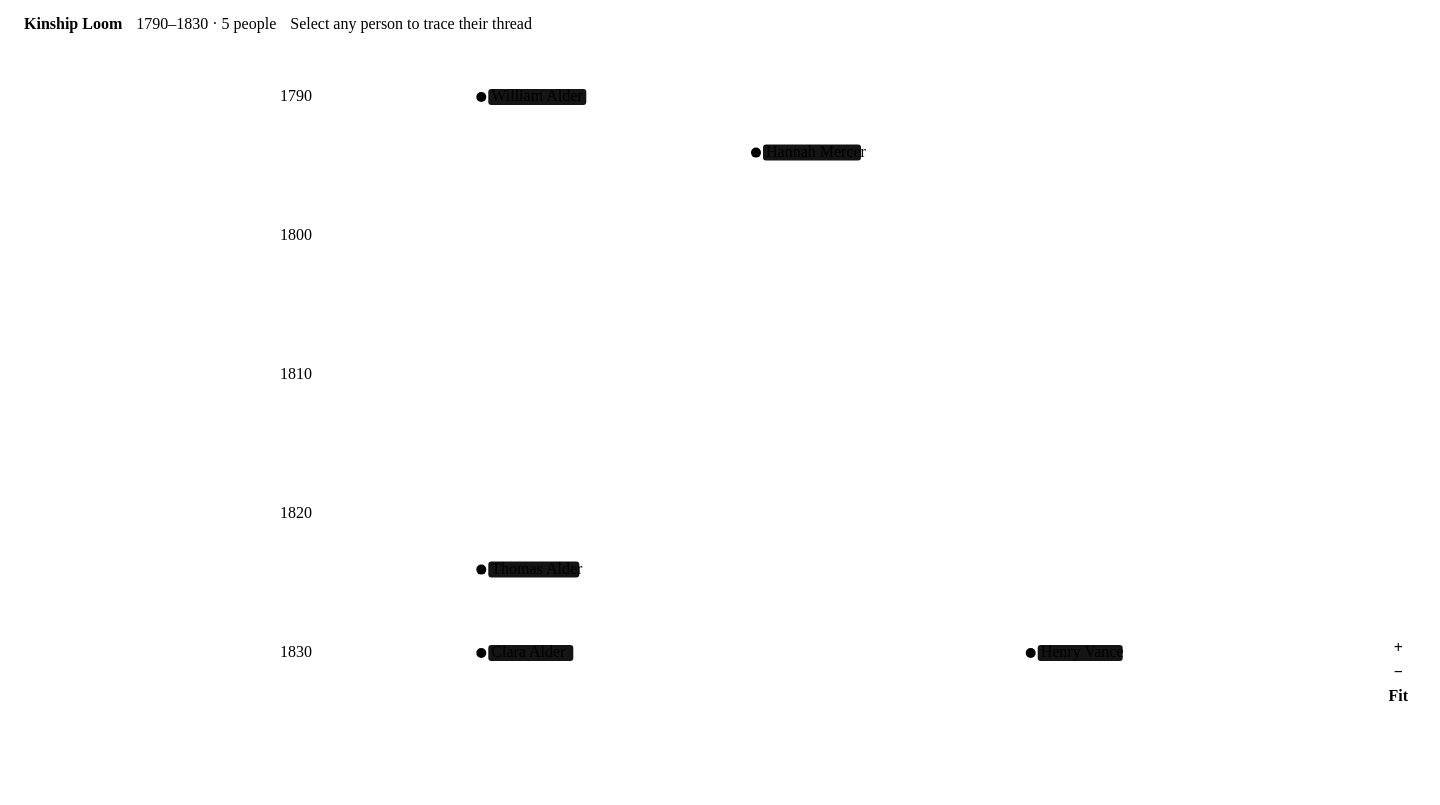
TreeKinshipLoom component & TreePage integration (#72, #123) › supports Trace My Thread spotlight, r=14 touch targets, zoom controls, and touch-friendly hint without redundant bar buttons
The image size is (1440, 805).
Later steps or results of the test are not shown.
Expected: the button "−" is shown, [1380,663,1416,681]
Expected: the button "Fit" is shown, [1380,687,1416,705]
Click the button "+": (1398, 648) [1380,639,1416,657]
(page scrolled)
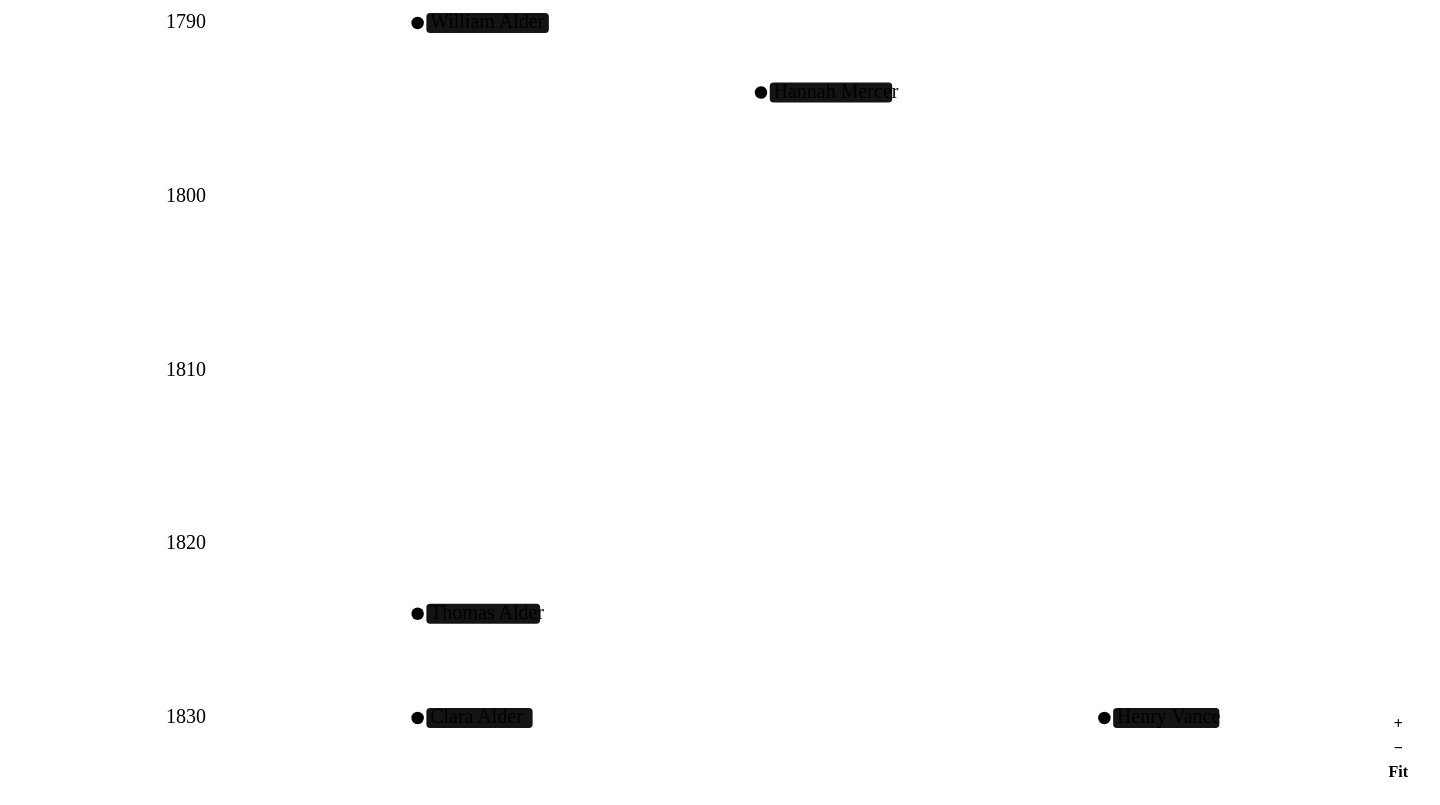
Click the button "−": (1398, 748) [1380,739,1416,757]
(page scrolled)
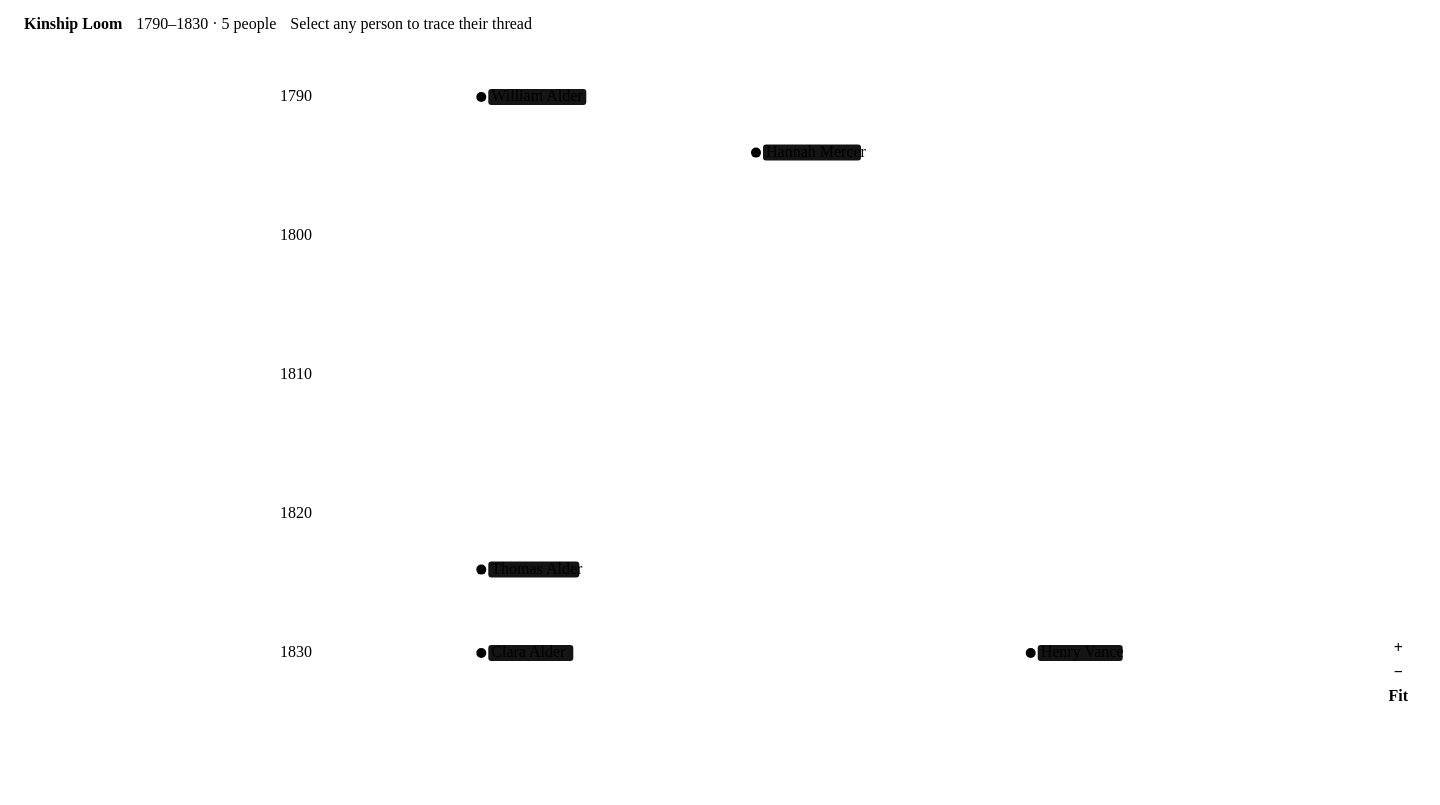
Click the button "Fit": (1398, 696) [1380,687,1416,705]
(page scrolled)
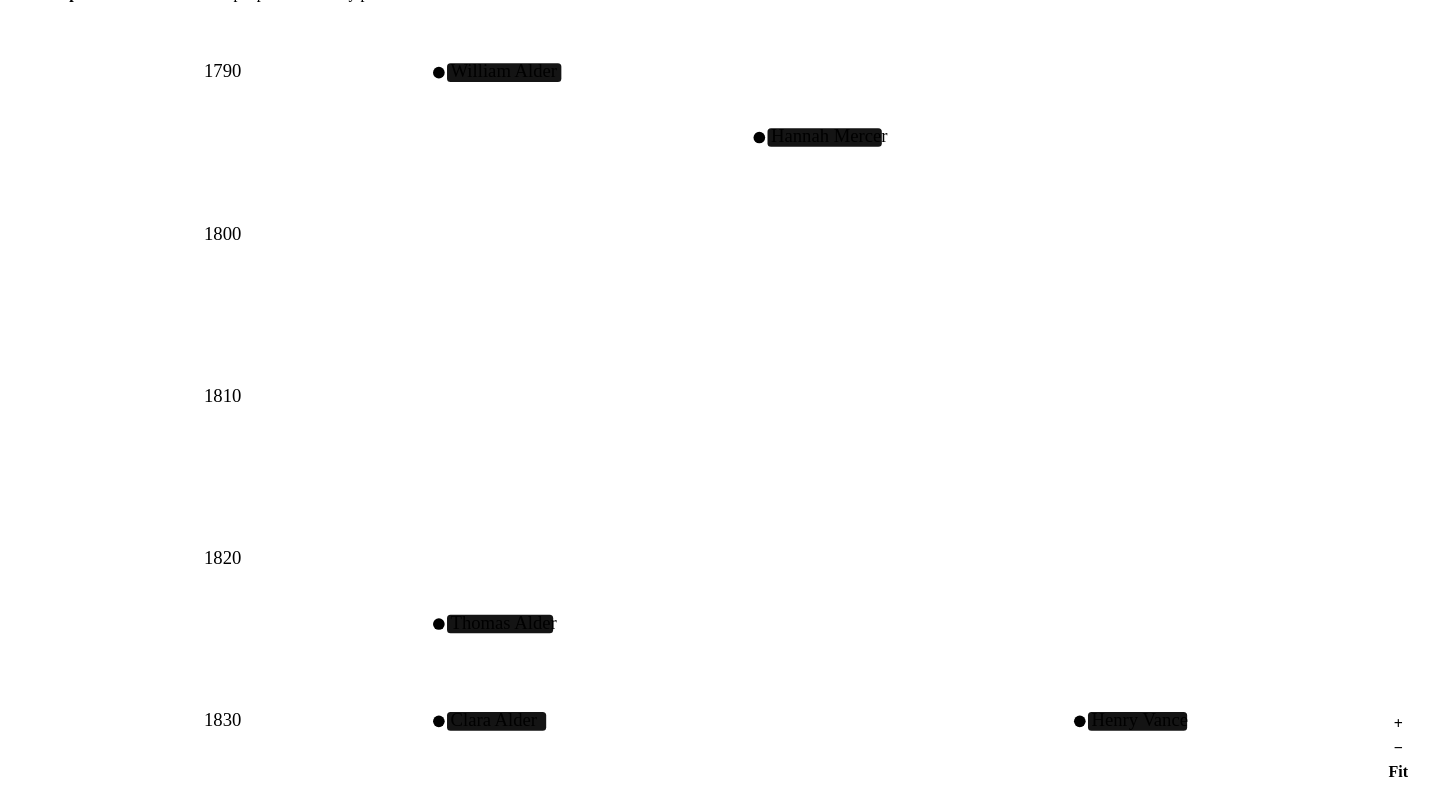
Expected: the button "Fit" is pressed
Click the button "Fit": (1398, 772) [1380,763,1416,781]
(page scrolled)
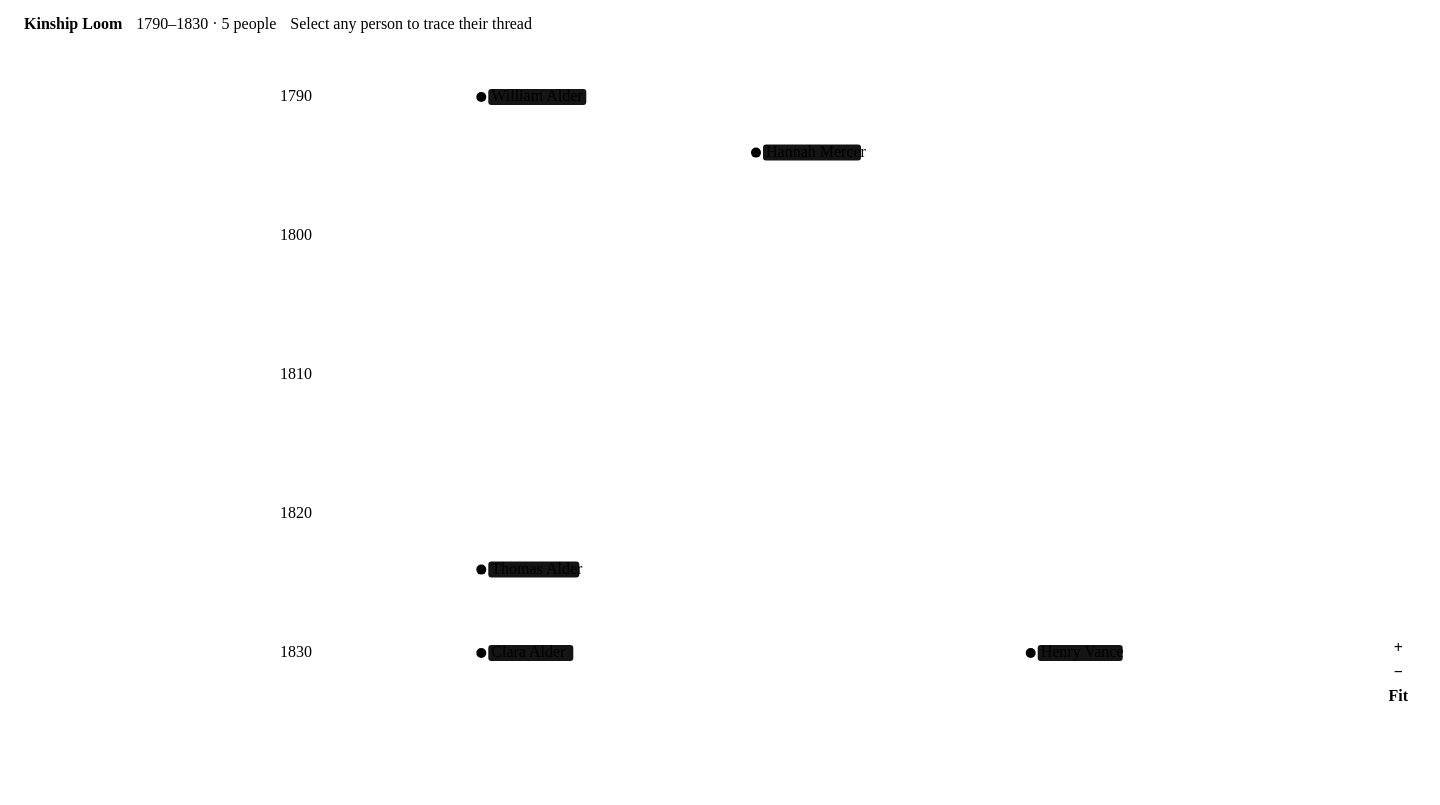
Expected: the element named "Alder Kinship Loom birth-year constellation" has attribute data-zoom-mode="auto"
Expected: the button "Fit" is not pressed, [1380,687,1416,705]
